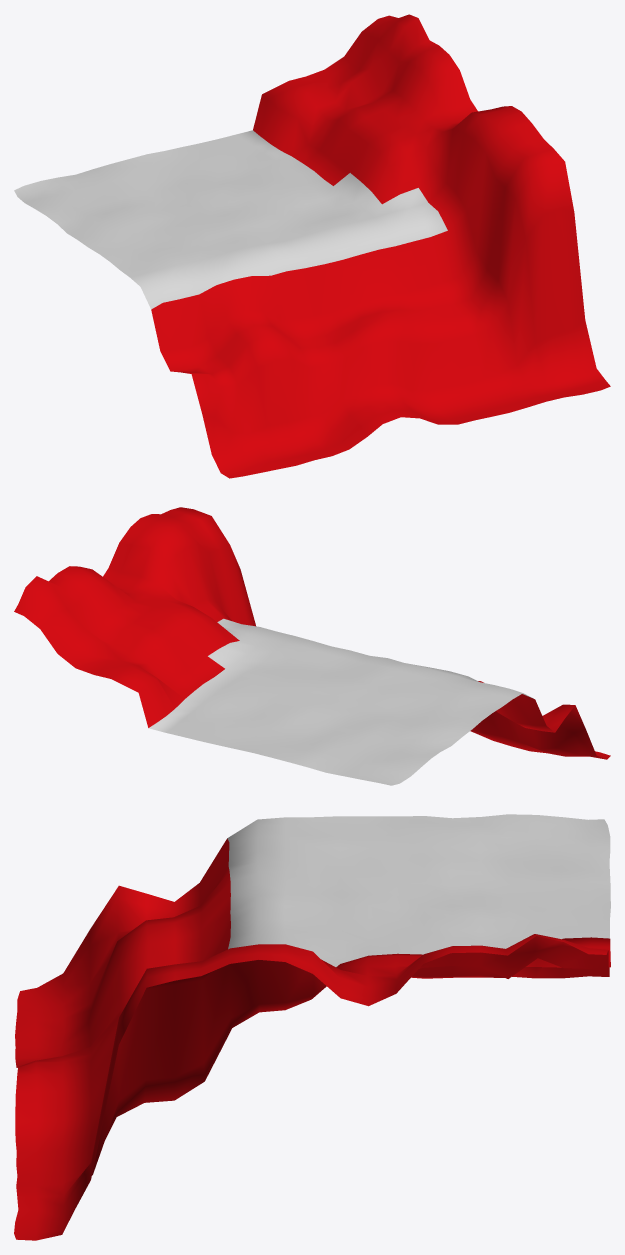
File: KnightBossLevel3.fbx
3 views of the same model, one above another, from view 1: azimuth 30°, elevation 25°; view 2: azimuth 150°, elevation 25°; view 3: azimuth 270°, elevation 25° (orthographic). The views are drawn at different scales.
Visible parts, largest first — view 1: Plane.002; view 2: Plane.002; view 3: Plane.002.
Boxes of the visible parts, x1,y1,x2,y2 form: Plane.002: (14, 14, 610, 478); Plane.002: (14, 507, 610, 785); Plane.002: (14, 814, 610, 1240).
Size of the model in its own units: 19300 by 10939 by 19257.
